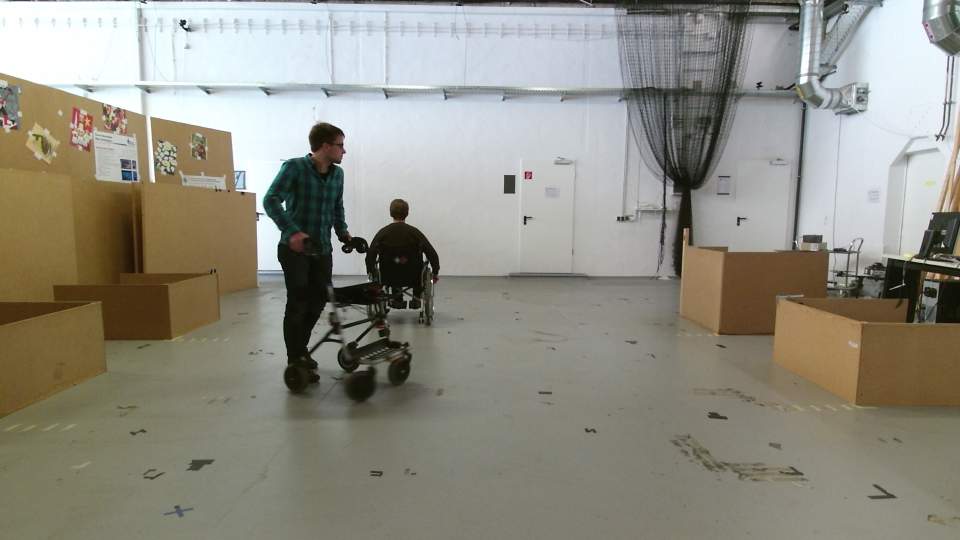wheelchair: (358, 195, 444, 333)
